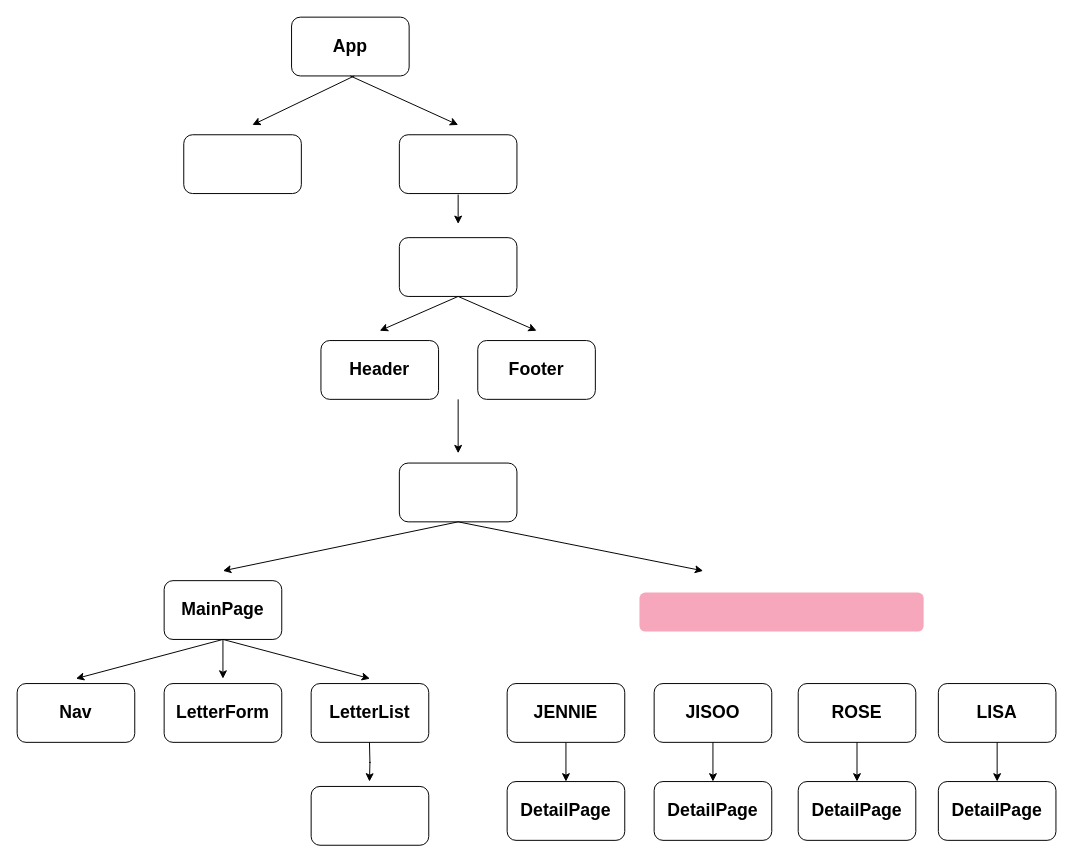
Image size: 1073x862. Some labels were removed from this diagram. Each missing label, with the centre of its shape:
GlobalStyle: point (242, 164)
Layout: point (457, 266)
LetterItem: point (369, 815)
Pages: point (781, 611)
Router: point (457, 164)
Routes: point (457, 492)
